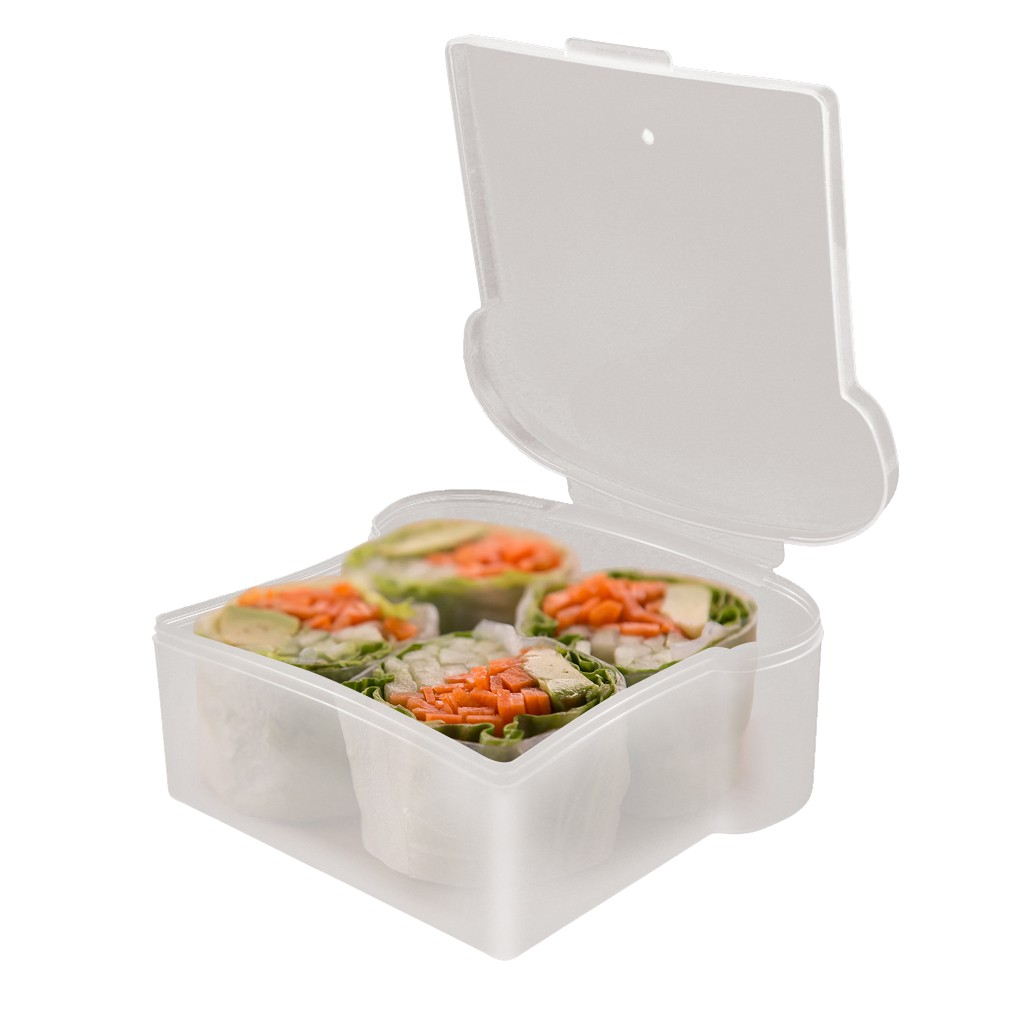PlasticBox: (151, 25, 908, 966)
